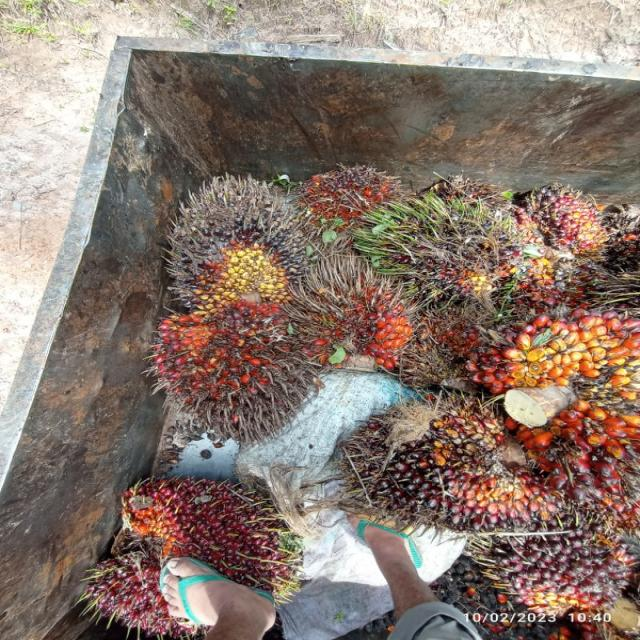fraksi 00: (327, 396, 546, 548), (157, 156, 326, 312), (348, 185, 537, 310)
fraksi 1: (466, 482, 640, 620), (526, 168, 626, 264)
fraksi 3: (470, 288, 640, 454), (306, 246, 420, 380)
fraksi 4: (135, 296, 326, 453), (296, 136, 409, 244)
